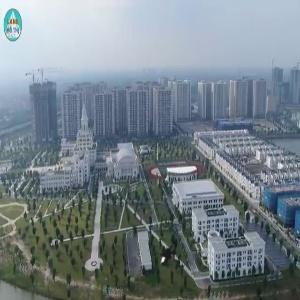drone: (144, 229, 191, 276)
